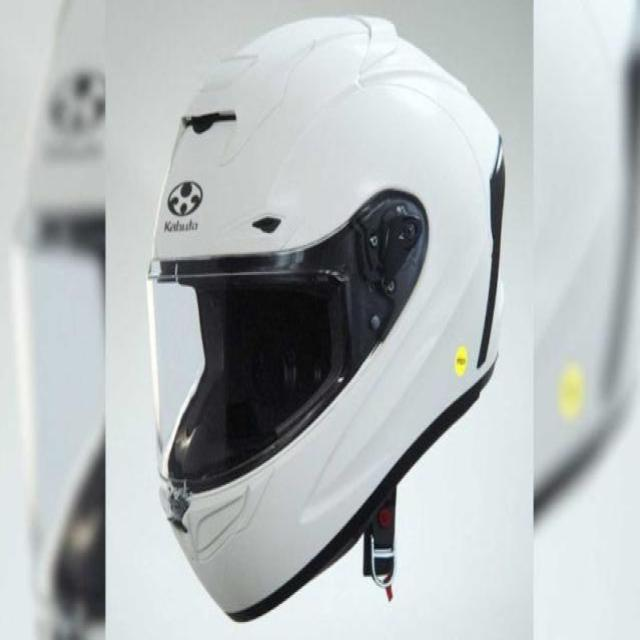Helmet: (148, 17, 505, 621)
